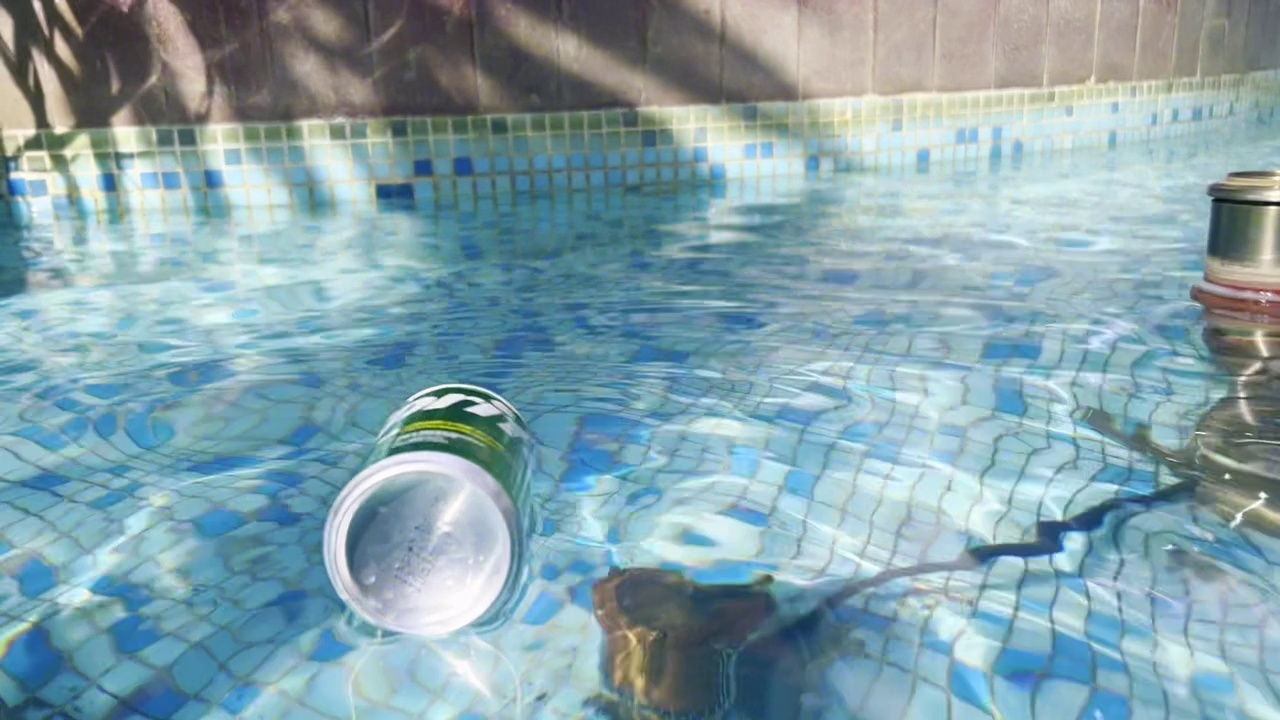debris: (299, 368, 539, 648)
